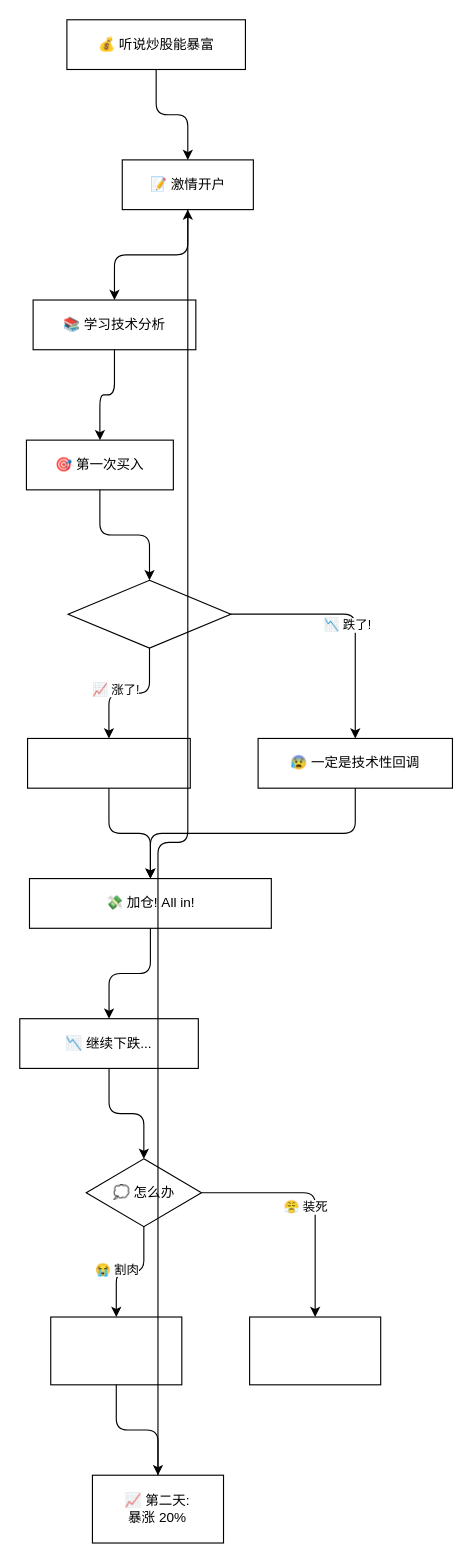
This 472x1563 diagram has some shape labels left out. Each missing label, with the centre of its shape:
"💔 含泪清仓 再也不玩了" belongs at [116,1350].
"📊 涨了还是跌了" belongs at [149,613].
"😎 我果然是股神" belongs at [108,762].
"🧘 价值投资 留给孙子解套" belongs at [314,1350].
